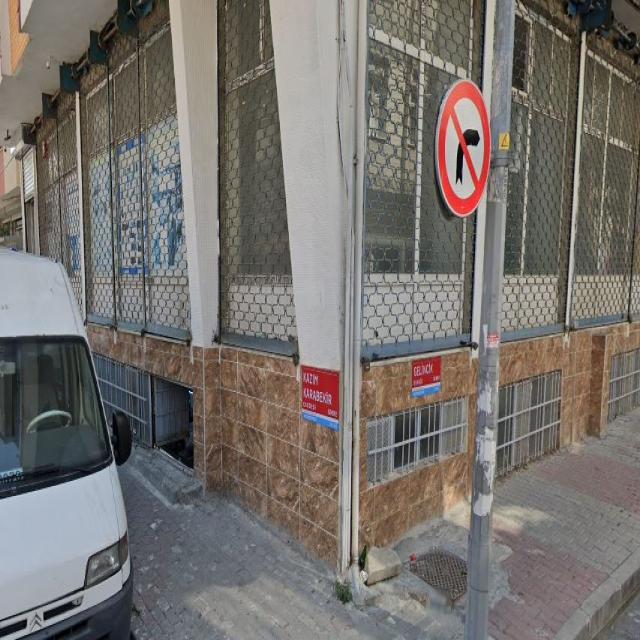sagadonulmez: (435, 79, 490, 218)
